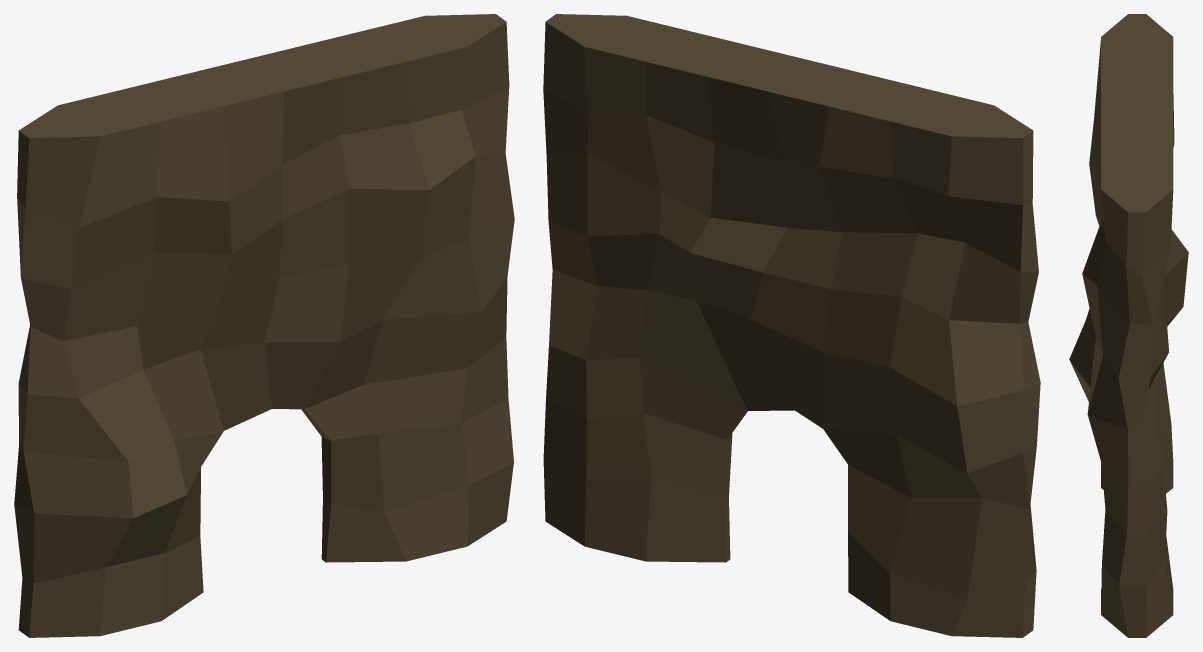
The model's file is BigOpening.S.fbx.
3 renders of one model, left to right at view 1: azimuth 30°, elevation 25°; view 2: azimuth 150°, elevation 25°; view 3: azimuth 270°, elevation 25°, orthographic. The views are drawn at different scales.
Parts seen in each view (by area): view 1: Big_Wall Opening.S; view 2: Big_Wall Opening.S; view 3: Big_Wall Opening.S.
Boxes of the visible parts, bbox=[...] form: Big_Wall Opening.S: bbox=[14, 14, 514, 637]; Big_Wall Opening.S: bbox=[543, 14, 1040, 637]; Big_Wall Opening.S: bbox=[1069, 14, 1188, 637].
Bounding box in the file's own units: 1332 × 1300 × 331.
